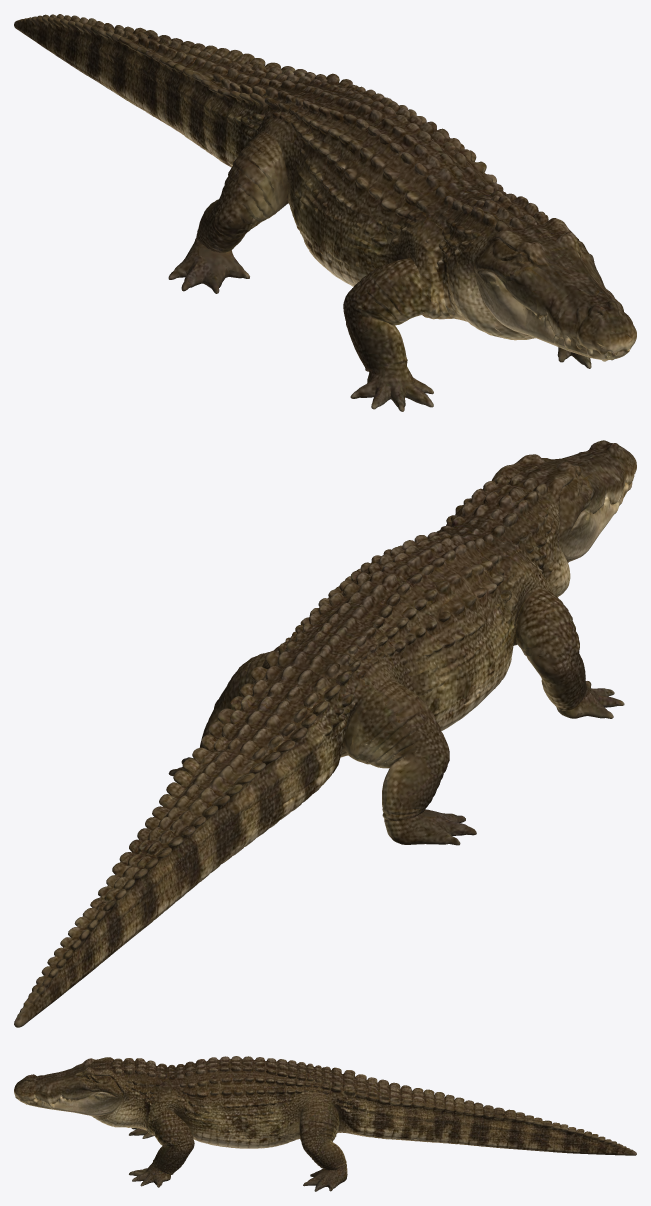
3 renders of one model, top to bottom at view 1: azimuth 30°, elevation 25°; view 2: azimuth 150°, elevation 25°; view 3: azimuth 270°, elevation 25°, orthographic. The views are drawn at different scales.
Parts seen in each view (by area): view 1: Authored orientation; view 2: Authored orientation; view 3: Authored orientation.
Part boxes in pixels (x1,y1,x2,y2): Authored orientation: [14, 14, 636, 411]; Authored orientation: [14, 440, 636, 1027]; Authored orientation: [14, 1056, 636, 1191].
Size of the model in its own units: 2.94 by 1.78 by 10.5.
1 material, 1 textured.
